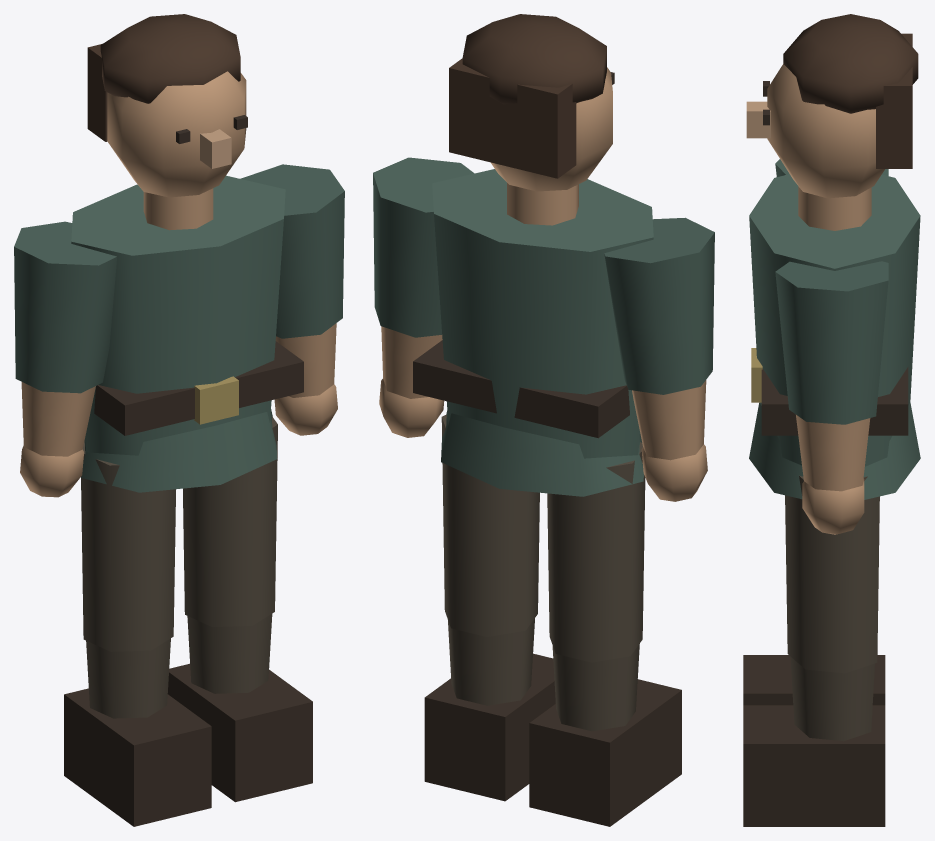
File: Character_Player_Reference.glb
3 views of the same model, side by side, from view 1: azimuth 30°, elevation 25°; view 2: azimuth 150°, elevation 25°; view 3: azimuth 270°, elevation 25° (orthographic). The views are drawn at different scales.
Parts seen in each view (by area): view 1: _MeshInstance3D_4511, _MeshInstance3D_4499, _MeshInstance3D_4501, _MeshInstance3D_4502, _MeshInstance3D_4505, _MeshInstance3D_4507, _MeshInstance3D_4516, _MeshInstance3D_4508, _MeshInstance3D_4517, _MeshInstance3D_4512, _MeshInstance3D_4513, _MeshInstance3D_4500 (+9 smaller); view 2: _MeshInstance3D_4511, _MeshInstance3D_4499, _MeshInstance3D_4502, _MeshInstance3D_4501, _MeshInstance3D_4505, _MeshInstance3D_4507, _MeshInstance3D_4508, _MeshInstance3D_4518, _MeshInstance3D_4512, _MeshInstance3D_4517, _MeshInstance3D_4513, _MeshInstance3D_4500 (+7 smaller); view 3: _MeshInstance3D_4511, _MeshInstance3D_4508, _MeshInstance3D_4507, _MeshInstance3D_4505, _MeshInstance3D_4516, _MeshInstance3D_4517, _MeshInstance3D_4506, _MeshInstance3D_4512, _MeshInstance3D_4509, _MeshInstance3D_4513, _MeshInstance3D_4518, _MeshInstance3D_4501 (+4 smaller).
Boxes of the visible parts, left/top/right/bottom form: _MeshInstance3D_4511: left=71, top=175, right=285, bottom=455; _MeshInstance3D_4499: left=81, top=441, right=175, bottom=651; _MeshInstance3D_4501: left=64, top=688, right=211, bottom=826; _MeshInstance3D_4502: left=14, top=221, right=116, bottom=393; _MeshInstance3D_4505: left=183, top=416, right=277, bottom=626; _MeshInstance3D_4507: left=167, top=663, right=312, bottom=802; _MeshInstance3D_4516: left=107, top=71, right=246, bottom=197; _MeshInstance3D_4508: left=240, top=164, right=344, bottom=338; _MeshInstance3D_4517: left=100, top=14, right=240, bottom=103; _MeshInstance3D_4512: left=81, top=409, right=277, bottom=492; _MeshInstance3D_4513: left=94, top=341, right=303, bottom=435; _MeshInstance3D_4500: left=86, top=638, right=170, bottom=718; _MeshInstance3D_4511: left=432, top=169, right=653, bottom=458; _MeshInstance3D_4499: left=547, top=442, right=645, bottom=662; _MeshInstance3D_4502: left=604, top=217, right=714, bottom=394; _MeshInstance3D_4501: left=529, top=679, right=681, bottom=826; _MeshInstance3D_4505: left=441, top=414, right=539, bottom=636; _MeshInstance3D_4507: left=424, top=653, right=555, bottom=801; _MeshInstance3D_4508: left=373, top=157, right=474, bottom=337; _MeshInstance3D_4518: left=449, top=58, right=576, bottom=178; _MeshInstance3D_4512: left=441, top=411, right=643, bottom=496; _MeshInstance3D_4517: left=462, top=14, right=606, bottom=104; _MeshInstance3D_4513: left=413, top=340, right=629, bottom=438; _MeshInstance3D_4500: left=552, top=643, right=639, bottom=731; _MeshInstance3D_4511: left=749, top=174, right=920, bottom=466; _MeshInstance3D_4508: left=775, top=261, right=888, bottom=424; _MeshInstance3D_4507: left=743, top=705, right=885, bottom=826; _MeshInstance3D_4505: left=785, top=475, right=879, bottom=673; _MeshInstance3D_4516: left=767, top=64, right=884, bottom=198; _MeshInstance3D_4517: left=783, top=14, right=918, bottom=113; _MeshInstance3D_4506: left=790, top=656, right=874, bottom=741; _MeshInstance3D_4512: left=749, top=402, right=920, bottom=499; _MeshInstance3D_4509: left=796, top=415, right=870, bottom=491; _MeshInstance3D_4513: left=761, top=367, right=908, bottom=435; _MeshInstance3D_4518: left=876, top=33, right=912, bottom=168; _MeshInstance3D_4501: left=743, top=655, right=885, bottom=705.
Size of the model in its own units: 0.8107 by 1.82 by 0.3875.
